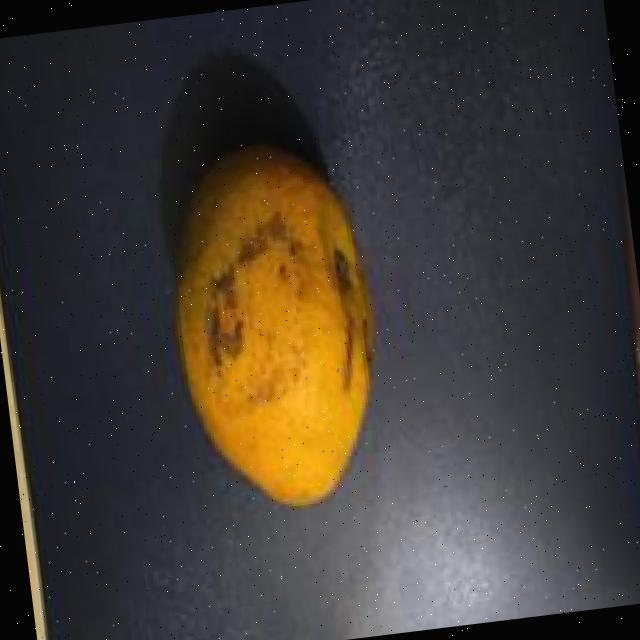overripe: (150, 135, 400, 526)
